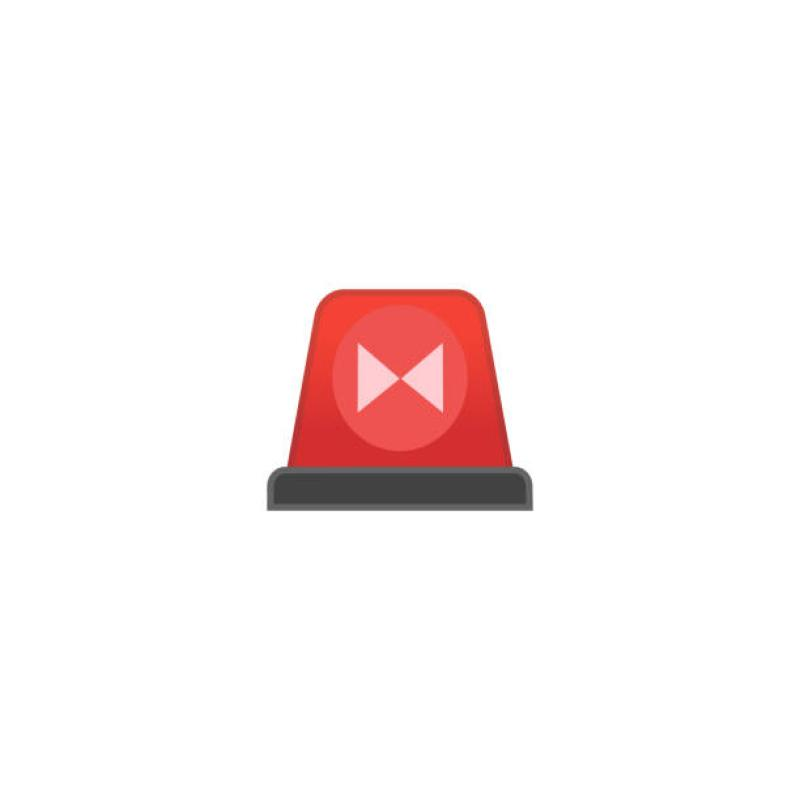AmbulanceSiren: (258, 273, 580, 579)
